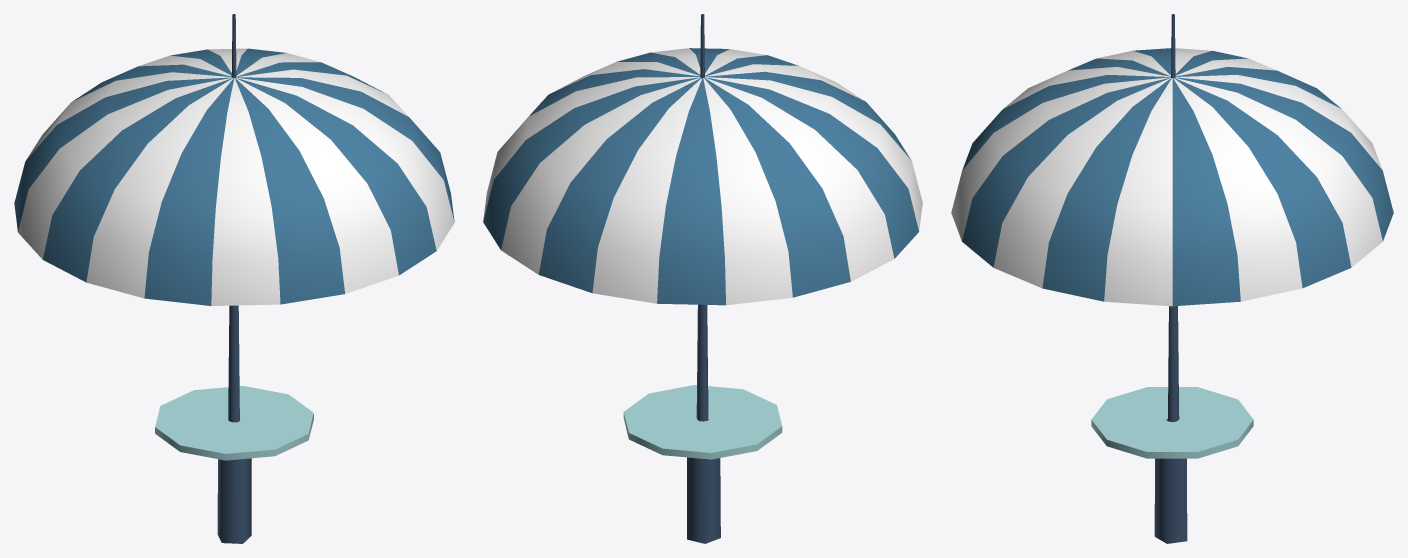
The model's file is SM_Umbrella7.fbx.
The picture shows the model from 3 angles, left to right: view 1: azimuth 30°, elevation 25°; view 2: azimuth 150°, elevation 25°; view 3: azimuth 270°, elevation 25°; orthographic projection.
Visible parts, largest first — view 1: SM_Umbrella7; view 2: SM_Umbrella7; view 3: SM_Umbrella7.
Part boxes in pixels (x1,y1,x2,y2): SM_Umbrella7: (14, 14, 454, 543); SM_Umbrella7: (483, 14, 922, 543); SM_Umbrella7: (951, 14, 1393, 543).
Bounding box in the file's own units: 312 × 406 × 312.
